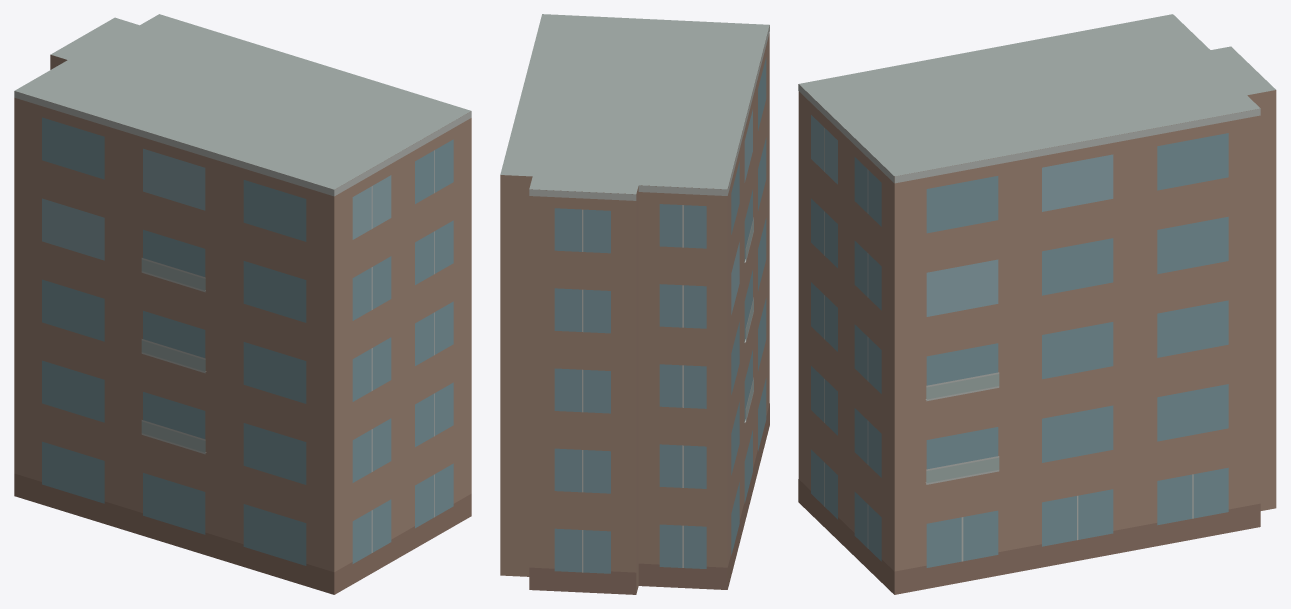
Rendered from survey-upis-32748360.glb.
3 views of the same model, side by side, from view 1: azimuth 30°, elevation 25°; view 2: azimuth 150°, elevation 25°; view 3: azimuth 270°, elevation 25° (orthographic). The views are drawn at different scales.
Visible parts, largest first — view 1: survey-upis-32748360.tmp; view 2: survey-upis-32748360.tmp; view 3: survey-upis-32748360.tmp.
Boxes of the visible parts, left/top/right/bottom form: survey-upis-32748360.tmp: left=14, top=14, right=471, bottom=594; survey-upis-32748360.tmp: left=500, top=14, right=769, bottom=594; survey-upis-32748360.tmp: left=798, top=14, right=1276, bottom=594.
Size of the model in its own units: 12.17 by 14.6 by 15.12.
